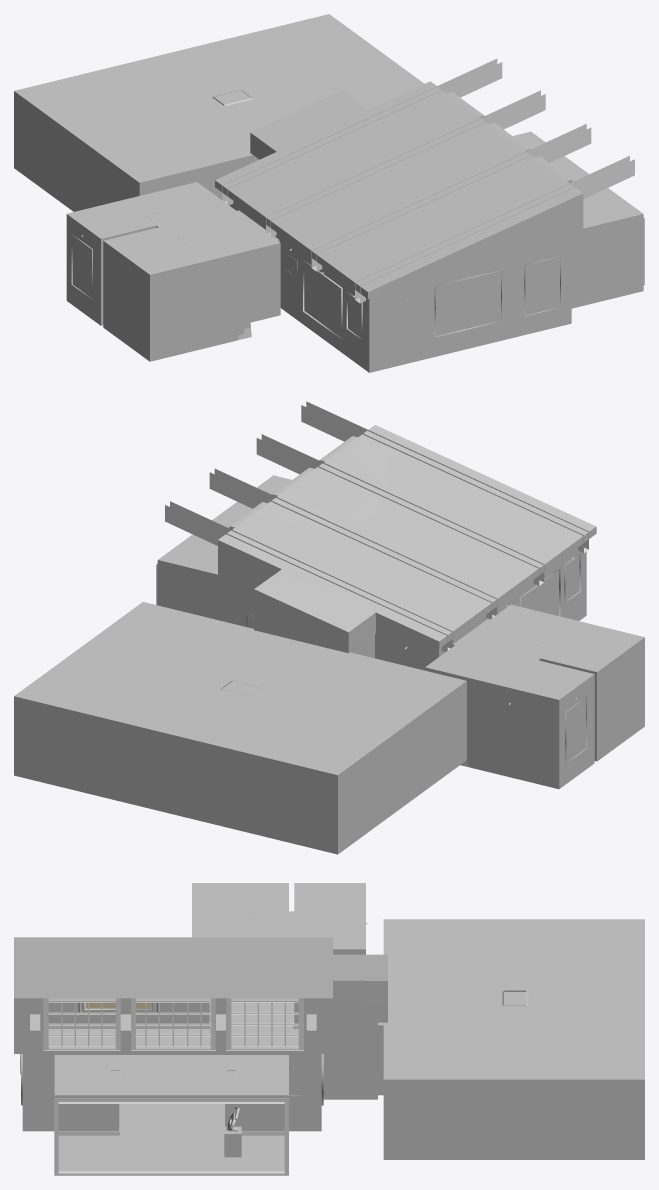
The model's file is house_museum.dae.
The picture shows the model from 3 angles, top to bottom: view 1: azimuth 30°, elevation 25°; view 2: azimuth 150°, elevation 25°; view 3: azimuth 270°, elevation 25°; orthographic projection. The views are drawn at different scales.
Parts seen in each view (by area): view 1: Walls_6, Wood_7, Pictures_2; view 2: Walls_6, Wood_7, Pictures_2; view 3: Walls_6, Floor_0, Wood_7, Pictures_2, DecoLamp_3.
Boxes of the visible parts, bbox=[...] form: Walls_6: bbox=[14, 14, 643, 372]; Wood_7: bbox=[222, 59, 644, 339]; Pictures_2: bbox=[71, 234, 560, 339]; Walls_6: bbox=[14, 425, 644, 854]; Wood_7: bbox=[156, 401, 588, 766]; Pictures_2: bbox=[246, 553, 586, 763]; Walls_6: bbox=[14, 883, 644, 1159]; Floor_0: bbox=[48, 1002, 298, 1175]; Wood_7: bbox=[30, 998, 316, 1175]; Pictures_2: bbox=[20, 1002, 323, 1105]; DecoLamp_3: bbox=[111, 913, 528, 1157].
Size of what is drawn, in the model's own units: 13.9 by 16.88 by 4.94.
